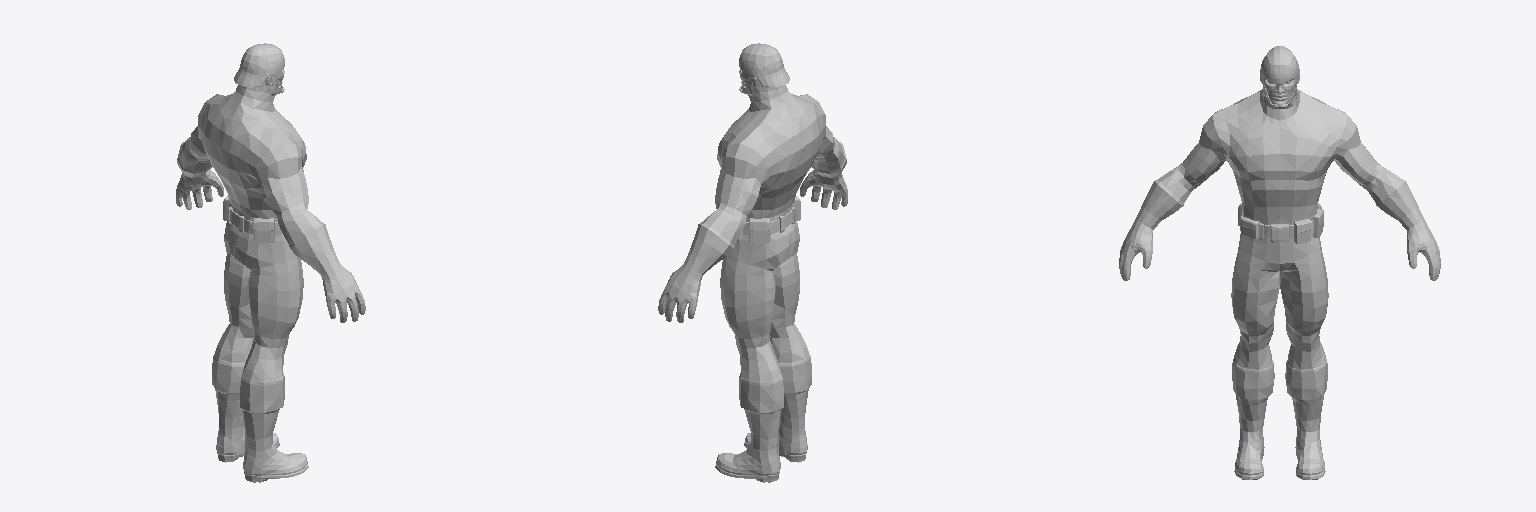
The model's file is Captain America (Reborn).obj.
The picture shows the model from 3 angles: view 1: azimuth 30°, elevation 25°; view 2: azimuth 150°, elevation 25°; view 3: azimuth 270°, elevation 25°; orthographic projection.
Visible parts, largest first — view 1: captainamerica_reborn; view 2: captainamerica_reborn; view 3: captainamerica_reborn.
Boxes of the visible parts, x1,y1,x2,y2 form: captainamerica_reborn: [176, 43, 365, 482]; captainamerica_reborn: [658, 43, 847, 482]; captainamerica_reborn: [1119, 46, 1440, 479].
Size of the model in its own units: 20.11 by 99.02 by 68.96.